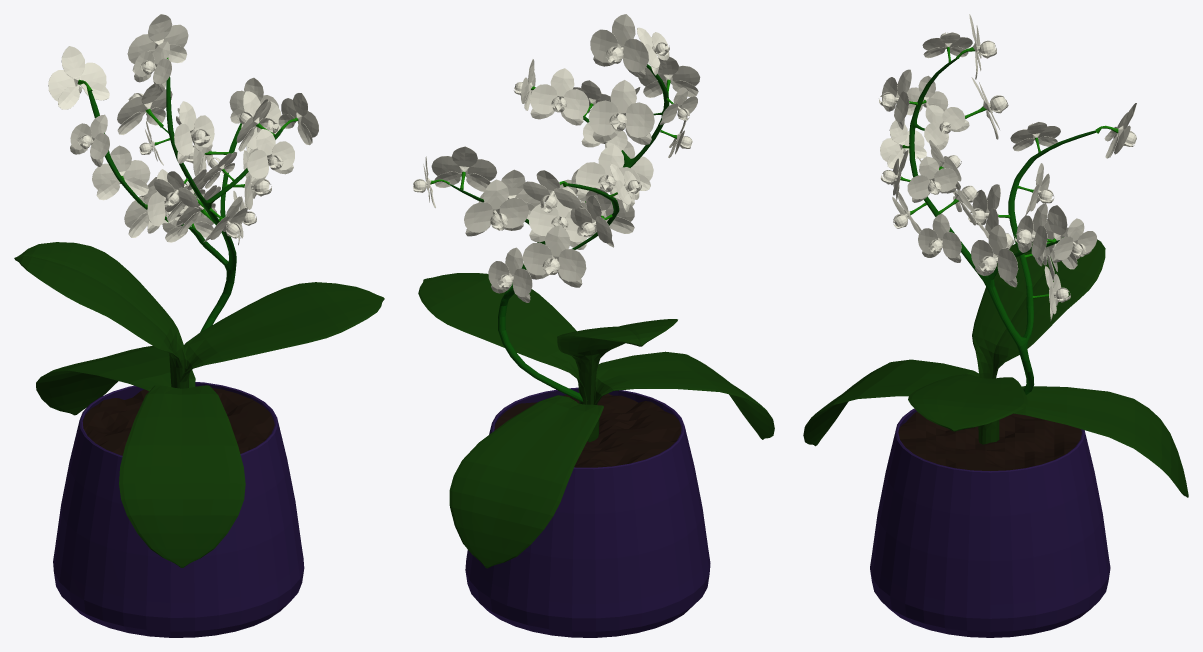
Rendered from orchids.obj.
The picture shows the model from 3 angles, left to right: view 1: azimuth 30°, elevation 25°; view 2: azimuth 150°, elevation 25°; view 3: azimuth 270°, elevation 25°; orthographic projection. The views are drawn at different scales.
Visible parts, largest first — view 1: Pot_Cylinder, Leaf.001_Plane.001, Leaf.002_Plane.002, Leaf.003_Plane.003, Leaf_Plane, Pot.001_Cylinder.003, stalk_Cylinder.002, Flower.024_Plane.029, Flower.022_Plane.027, Flower.012_Plane.017, Flower.003_Plane.008, Flower.008_Plane.013 (+16 smaller); view 2: Pot_Cylinder, Leaf_Plane, Leaf.002_Plane.002, Pot.001_Cylinder.003, Leaf.001_Plane.001, Leaf.003_Plane.003, Flower.011_Plane.016, stalk_Cylinder.002, Flower.020_Plane.025, Flower.016_Plane.021, Flower.012_Plane.017, Flower.006_Plane.011 (+15 smaller); view 3: Pot_Cylinder, Leaf_Plane, Pot.001_Cylinder.003, Leaf.003_Plane.003, Leaf.002_Plane.002, Leaf.001_Plane.001, stalk_Cylinder.002, Flower.015_Plane.020, Flower.005_Plane.010, Flower_Plane.005, Flower.018_Plane.023, Flower.009_Plane.014 (+15 smaller).
Part boxes in pixels (<box>): Pot_Cylinder: <box>53,382,304,637</box>; Leaf.001_Plane.001: <box>119,385,245,567</box>; Leaf.002_Plane.002: <box>178,282,384,388</box>; Leaf.003_Plane.003: <box>14,242,186,388</box>; Leaf_Plane: <box>36,345,195,415</box>; Pot.001_Cylinder.003: <box>82,386,274,455</box>; stalk_Cylinder.002: <box>88,76,282,332</box>; Flower.024_Plane.029: <box>48,46,109,109</box>; Flower.022_Plane.027: <box>92,145,150,200</box>; Flower.012_Plane.017: <box>127,14,188,73</box>; Flower.003_Plane.008: <box>247,129,294,184</box>; Flower.008_Plane.013: <box>173,101,214,163</box>; Pot_Cylinder: <box>465,387,710,637</box>; Leaf_Plane: <box>449,395,603,568</box>; Leaf.002_Plane.002: <box>418,273,596,404</box>; Pot.001_Cylinder.003: <box>494,393,681,467</box>; Leaf.001_Plane.001: <box>594,351,774,439</box>; Leaf.003_Plane.003: <box>557,319,677,404</box>; Flower.011_Plane.016: <box>588,80,654,144</box>; stalk_Cylinder.002: <box>449,64,669,402</box>; Flower.020_Plane.025: <box>522,225,586,287</box>; Flower.016_Plane.021: <box>464,179,528,236</box>; Flower.012_Plane.017: <box>590,14,648,78</box>; Flower.006_Plane.011: <box>530,68,589,125</box>; Pot_Cylinder: <box>870,408,1110,637</box>; Leaf_Plane: <box>981,386,1188,497</box>; Pot.001_Cylinder.003: <box>898,411,1081,470</box>; Leaf.003_Plane.003: <box>972,239,1105,378</box>; Leaf.002_Plane.002: <box>908,373,1027,431</box>; Leaf.001_Plane.001: <box>803,359,982,446</box>; stalk_Cylinder.002: <box>909,58,1096,394</box>; Flower.015_Plane.020: <box>971,225,1018,287</box>; Flower.005_Plane.010: <box>907,156,957,202</box>; Flower_Plane.005: <box>918,213,961,262</box>; Flower.018_Plane.023: <box>1014,203,1055,266</box>; Flower.009_Plane.014: <box>924,105,969,150</box>.
Bounding box in the file's own units: 31.13 × 57.44 × 35.27.
